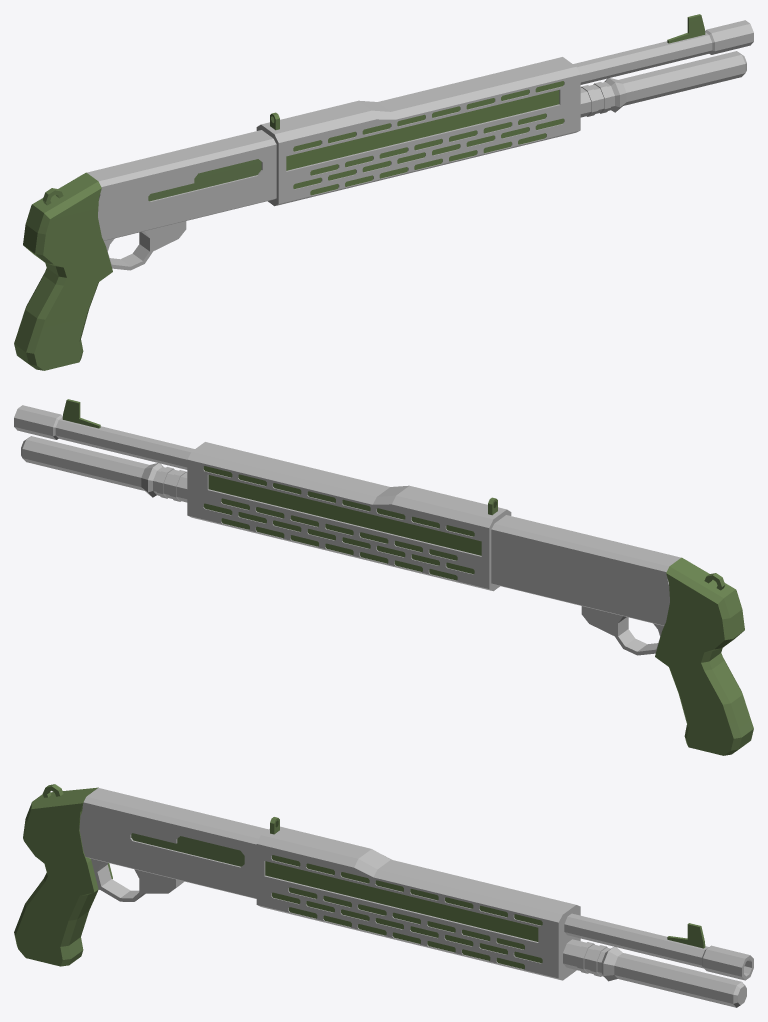
Rendered from Shotgun5_06.fbx.
The picture shows the model from 3 angles, top to bottom: view 1: azimuth 30°, elevation 25°; view 2: azimuth 150°, elevation 25°; view 3: azimuth 330°, elevation 25°; orthographic projection.
Visible parts, largest first — view 1: Shotgun5_06; view 2: Shotgun5_06; view 3: Shotgun5_06.
Boxes of the visible parts, bbox=[...] form: Shotgun5_06: bbox=[14, 14, 753, 370]; Shotgun5_06: bbox=[14, 399, 753, 755]; Shotgun5_06: bbox=[14, 784, 753, 1007].
Bounding box in the file's own units: 0.8358 × 0.2102 × 0.0437.
